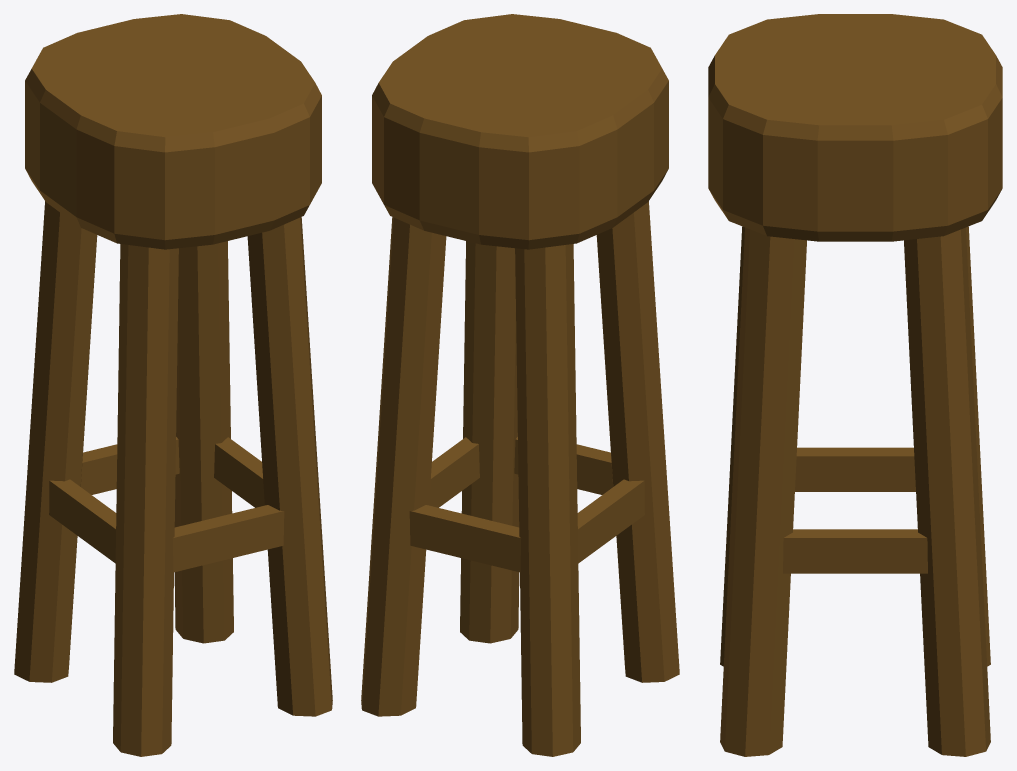
File: Bar_Stool.fbx
The picture shows the model from 3 angles, left to right: view 1: azimuth 30°, elevation 25°; view 2: azimuth 150°, elevation 25°; view 3: azimuth 270°, elevation 25°; orthographic projection. The views are drawn at different scales.
Visible parts, largest first — view 1: Cube.001; view 2: Cube.001; view 3: Cube.001.
Boxes of the visible parts, x1=… form: Cube.001: x1=14, y1=14, x2=332, y2=756; Cube.001: x1=361, y1=14, x2=679, y2=756; Cube.001: x1=708, y1=14, x2=1002, y2=756.
Bounding box in the file's own units: 67.73 × 172 × 72.31.
